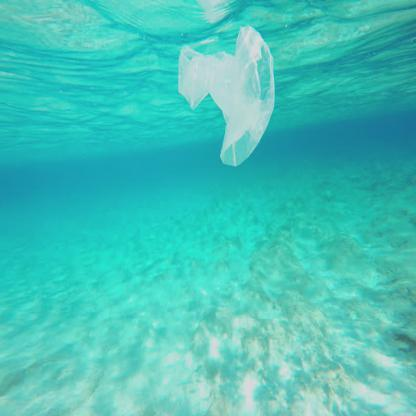Rác: (173, 21, 284, 189)
